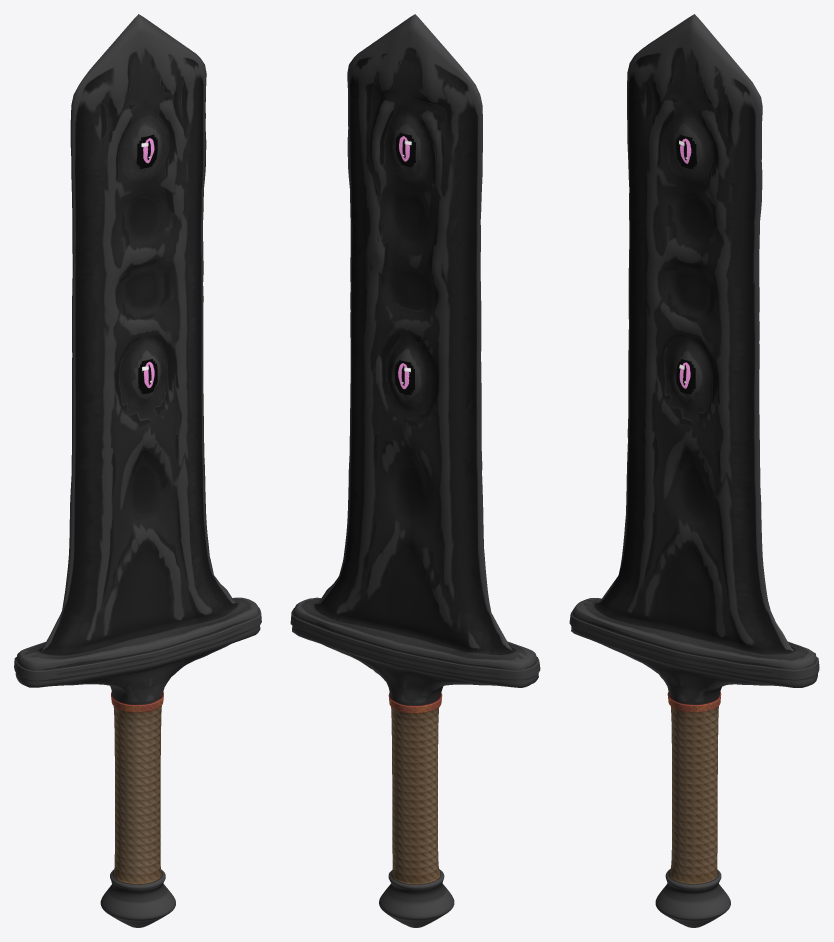
The model's file is Eclipsa.glb.
3 views of the same model, side by side, from view 1: azimuth 30°, elevation 25°; view 2: azimuth 150°, elevation 25°; view 3: azimuth 330°, elevation 25° (orthographic).
Size of the model in its own units: 0.5501 by 1.99 by 0.151.
Materials: 2 (2 with a texture image).
